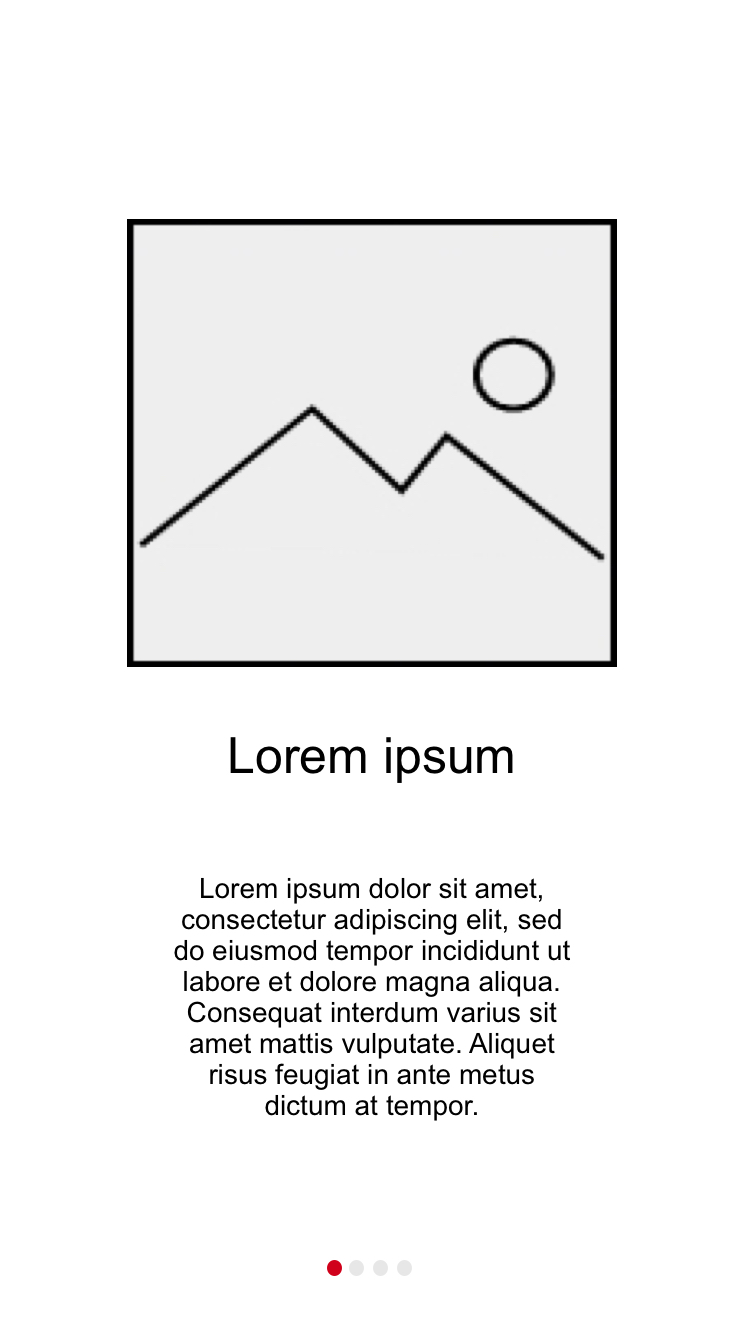Image: (126, 217, 619, 669)
PageIndicator: (326, 1259, 414, 1278)
Text: (173, 877, 571, 1122), (229, 735, 514, 784)
